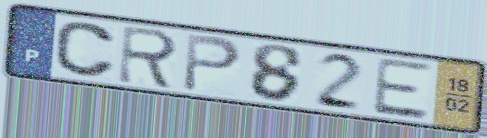2: (308, 52, 368, 112)
8: (248, 42, 305, 103)
C: (52, 20, 119, 80)
E: (369, 55, 433, 122)
P: (180, 31, 244, 95)
R: (115, 23, 182, 92)
